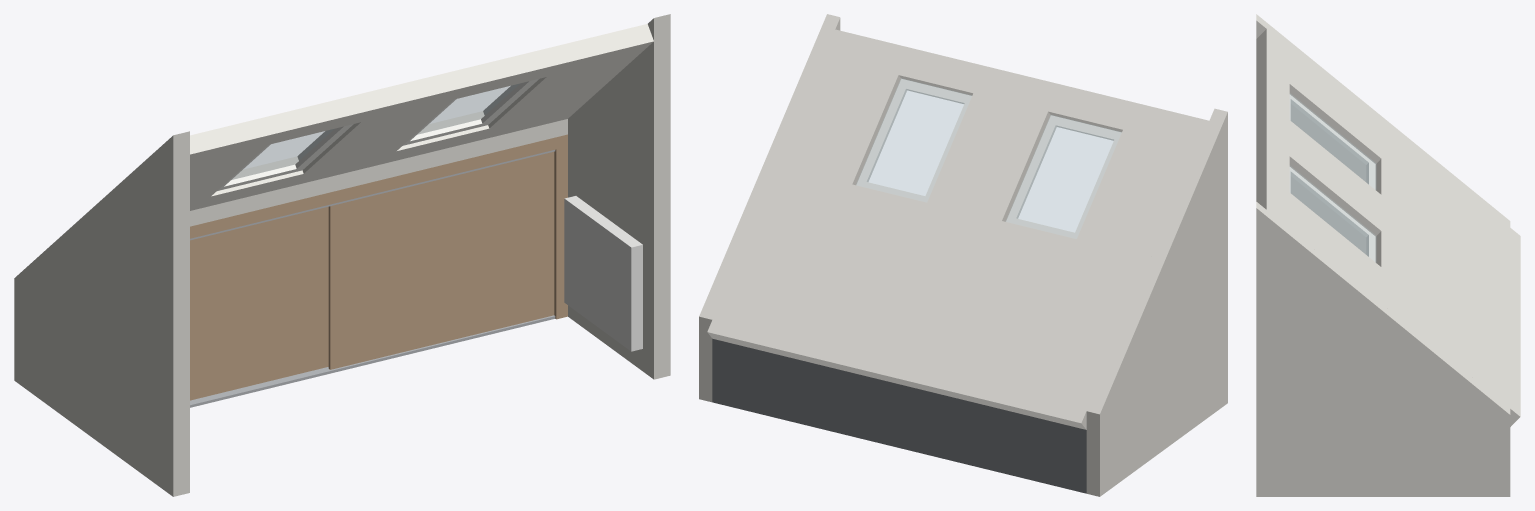
The model's file is cylinder-cupboard-loft-east-finchley.glb.
3 views of the same model, side by side, from view 1: azimuth 30°, elevation 25°; view 2: azimuth 150°, elevation 25°; view 3: azimuth 270°, elevation 25° (orthographic). The views are drawn at different scales.
Parts seen in each view (by area): view 1: Room: Wall, left, Door, right (front track), Room: Roof slope, Door, left (back track), Room: Wall, right, Room: Radiator, Room: Wall over the frame, Head, Stile, right, Bottom track, Room: Skylight glass 1, Room: Skylight glass 2 (+3 smaller); view 2: Room: Roof slope, Room: Wall, left, Room: Back of the eaves, Room: Skylight glass 1, Room: Skylight glass 2, Room: Wall, right, Room: Skylight frame 2, Room: Skylight frame 1; view 3: Room: Wall, right, Room: Roof slope, Room: Wall, left, Room: Skylight glass 1, Room: Skylight glass 2, Room: Skylight frame 1, Room: Skylight frame 2.
Part boxes in pixels (x1,y1,x2,y2): Room: Wall, left: (14,131,189,496); Door, right (front track): (328,151,554,369); Room: Roof slope: (190,24,653,210); Door, left (back track): (190,206,328,400); Room: Wall, right: (568,14,670,379); Room: Radiator: (564,196,642,351); Room: Wall over the frame: (190,119,567,226); Head: (190,137,556,238); Stile, right: (554,134,567,319); Bottom track: (190,315,555,407); Room: Skylight glass 1: (232,129,333,179); Room: Skylight glass 2: (418,84,519,134); Room: Roof slope: (707,29,1208,429); Room: Wall, left: (1086,108,1227,496); Room: Back of the eaves: (712,338,1086,493); Room: Skylight glass 1: (1006,115,1121,238); Room: Skylight glass 2: (856,78,971,201); Room: Wall, right: (699,14,840,402); Room: Skylight frame 2: (856,78,971,202); Room: Skylight frame 1: (1006,115,1121,238); Room: Wall, right: (1256,202,1510,496); Room: Roof slope: (1256,29,1520,426); Room: Wall, left: (1256,14,1510,254); Room: Skylight glass 1: (1290,93,1376,189); Room: Skylight glass 2: (1290,166,1375,261); Room: Skylight frame 1: (1289,94,1375,189); Room: Skylight frame 2: (1289,167,1375,262).
Size of the model in its own units: 3 by 2.08 by 1.73.
